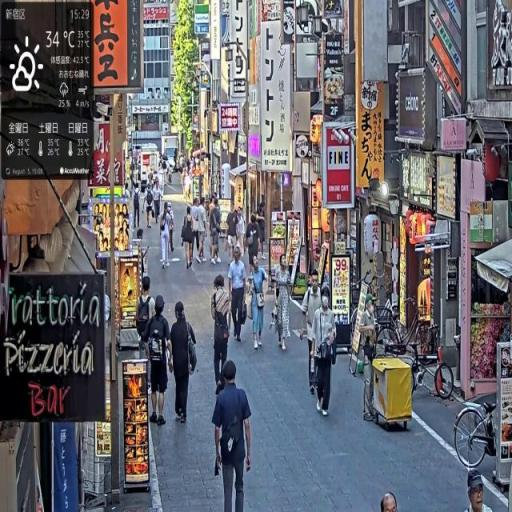person: (213, 358, 253, 512), (143, 292, 174, 431), (171, 299, 200, 425), (311, 285, 338, 420), (211, 272, 233, 397), (302, 270, 323, 392), (272, 255, 295, 353), (248, 252, 269, 352), (228, 245, 249, 345), (135, 276, 160, 352), (462, 470, 497, 512), (191, 198, 208, 265), (225, 202, 241, 267), (247, 214, 263, 278), (159, 203, 173, 272), (209, 196, 223, 265), (181, 208, 196, 271), (196, 199, 209, 265), (152, 183, 164, 224), (145, 185, 155, 231), (133, 184, 143, 230)
